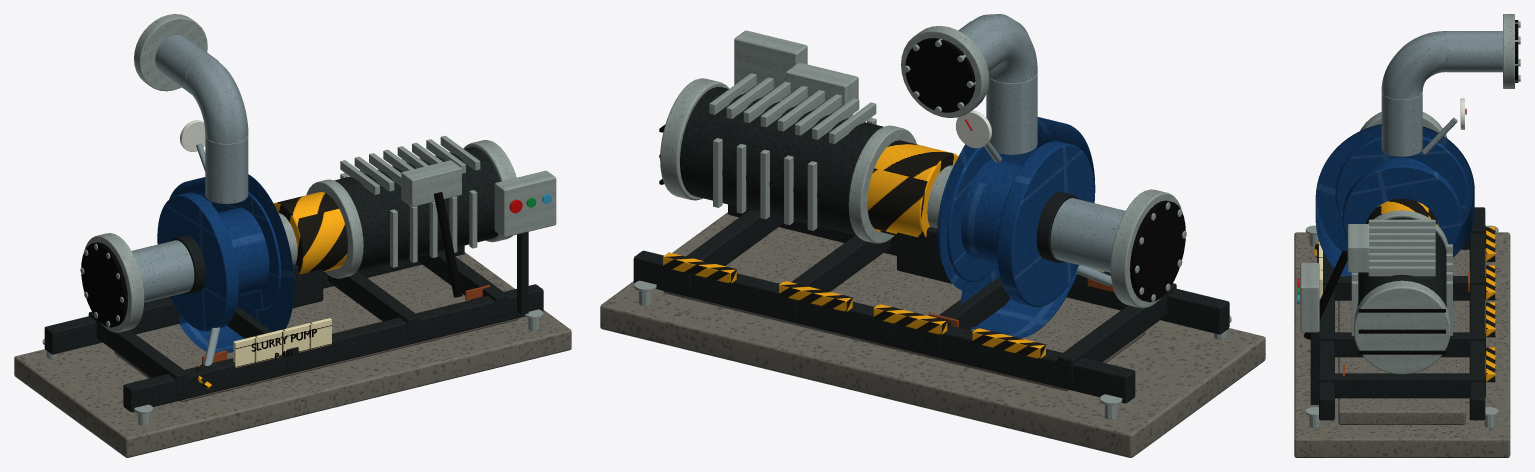
Rendered from level4_slurry_pump_industrial_uv.fbx.
3 views of the same model, side by side, from view 1: azimuth 30°, elevation 25°; view 2: azimuth 150°, elevation 25°; view 3: azimuth 270°, elevation 25° (orthographic). The views are drawn at different scales.
Parts seen in each view (by area): view 1: L4_Pump_Concrete_Foundation, L4_Skid_Long_IBeam_-0.62, L4_DriveMotor_Casing, L4_SlurryPump_Blue_Volute_Casing, L4_Pump_Front_Cover_Ring, L4_Pump_Grout_Pad_Motor, L4_Coupling_Guard_Yellow_Striped, L4_Discharge_Elbow_90deg, L4_Skid_Long_IBeam_+0.62, L4_Local_Control_Panel_Box, L4_Suction_Gasket_Rubber, L4_Suction_Nozzle_Pipe (+19 smaller); view 2: L4_Pump_Concrete_Foundation, L4_DriveMotor_Casing, L4_Skid_Long_IBeam_+0.62, L4_Pump_Front_Cover_Ring, L4_SlurryPump_Blue_Volute_Casing, L4_Pump_Grout_Pad_Motor, L4_Coupling_Guard_Yellow_Striped, L4_Pump_Grout_Pad_Pump, L4_Skid_Long_IBeam_-0.62, L4_Suction_Gasket_Rubber, L4_Suction_Nozzle_Pipe, L4_Discharge_Gasket_Rubber (+35 smaller); view 3: L4_Pump_Concrete_Foundation, L4_DriveMotor_Rear_FanCover, L4_Pump_Back_Cover_Ring, L4_SlurryPump_Blue_Volute_Casing, L4_Pump_Grout_Pad_Motor, L4_Skid_CrossMember_+1.55, L4_Pump_Front_Cover_Ring, L4_Discharge_Elbow_90deg, L4_Skid_Long_IBeam_+0.62, L4_Discharge_Riser_Pipe, L4_Discharge_Outlet_Pipe, L4_Skid_Long_IBeam_-0.62 (+30 smaller).
Part boxes in pixels (x1,y1,x2,y2): L4_Pump_Concrete_Foundation: [14, 252, 571, 457]; L4_Skid_Long_IBeam_-0.62: [123, 284, 543, 412]; L4_DriveMotor_Casing: [334, 147, 500, 271]; L4_SlurryPump_Blue_Volute_Casing: [169, 174, 294, 353]; L4_Pump_Front_Cover_Ring: [157, 192, 238, 331]; L4_Pump_Grout_Pad_Motor: [296, 265, 518, 360]; L4_Coupling_Guard_Yellow_Striped: [273, 192, 347, 274]; L4_Discharge_Elbow_90deg: [185, 57, 248, 144]; L4_Skid_Long_IBeam_+0.62: [44, 245, 464, 354]; L4_Local_Control_Panel_Box: [494, 170, 556, 237]; L4_Suction_Gasket_Rubber: [81, 242, 127, 327]; L4_Suction_Nozzle_Pipe: [132, 240, 194, 302]; L4_Pump_Concrete_Foundation: [600, 212, 1265, 457]; L4_DriveMotor_Casing: [680, 86, 883, 235]; L4_Skid_Long_IBeam_+0.62: [633, 250, 1135, 403]; L4_Pump_Front_Cover_Ring: [997, 141, 1094, 307]; L4_SlurryPump_Blue_Volute_Casing: [940, 117, 1095, 338]; L4_Pump_Grout_Pad_Motor: [663, 227, 929, 342]; L4_Coupling_Guard_Yellow_Striped: [867, 140, 958, 238]; L4_Pump_Grout_Pad_Pump: [865, 278, 1145, 391]; L4_Skid_Long_IBeam_-0.62: [728, 204, 1229, 334]; L4_Suction_Gasket_Rubber: [1130, 200, 1185, 302]; L4_Suction_Nozzle_Pipe: [1050, 198, 1125, 272]; L4_Discharge_Gasket_Rubber: [905, 38, 975, 112]; L4_Pump_Concrete_Foundation: [1294, 232, 1510, 457]; L4_DriveMotor_Rear_FanCover: [1353, 280, 1450, 374]; L4_Pump_Back_Cover_Ring: [1342, 162, 1461, 246]; L4_SlurryPump_Blue_Volute_Casing: [1315, 124, 1474, 277]; L4_Pump_Grout_Pad_Motor: [1338, 357, 1465, 424]; L4_Skid_CrossMember_+1.55: [1319, 373, 1485, 398]; L4_Pump_Front_Cover_Ring: [1335, 136, 1468, 221]; L4_Discharge_Elbow_90deg: [1381, 31, 1445, 99]; L4_Skid_Long_IBeam_+0.62: [1469, 207, 1485, 420]; L4_Discharge_Riser_Pipe: [1381, 92, 1422, 156]; L4_Discharge_Outlet_Pipe: [1446, 31, 1502, 72]; L4_Skid_Long_IBeam_-0.62: [1319, 251, 1334, 420].
Size of the model in its own units: 405 by 279 by 187.
Materials: 1 (1 with a texture image).
